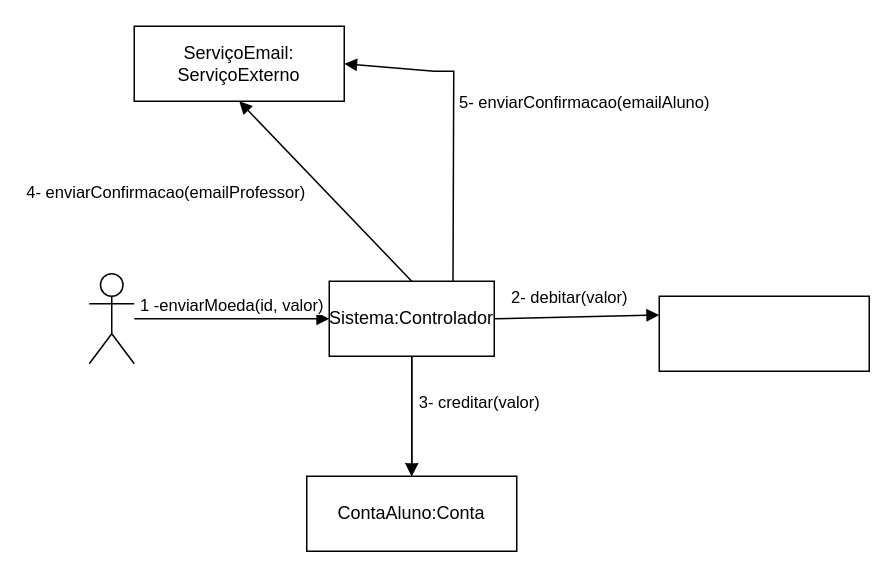
This 896x578 diagram has some shape labels left out. The shapes that lost their labels are listed below. From the top down, each one's box as (x1, y1, x2, y2) in pixels, then its label:
(88, 272, 134, 364): Professor
(658, 295, 869, 371): ContaProfessor:Conta
